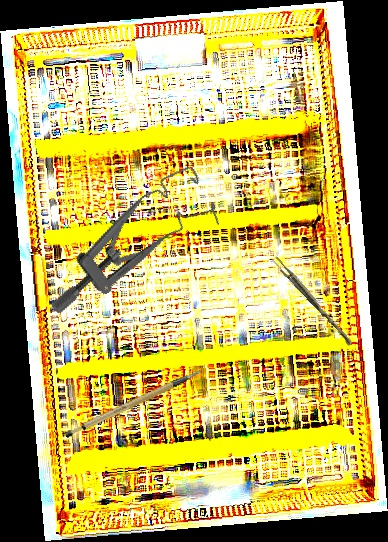Scalpel Handle: (58, 368, 210, 441)
Speculum: (21, 162, 232, 317)
Tissue Forceps: (269, 255, 357, 347)
